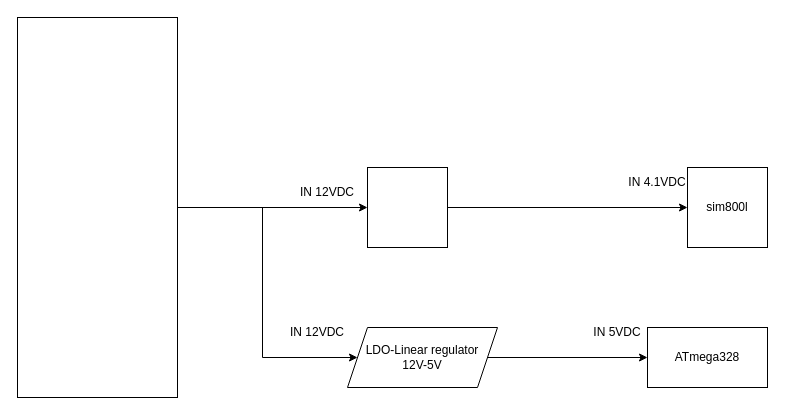
Image size: 785x415. Some labels were removed from this diagram. Each missing label, with the box of its shape:
Buck 12VDC-4.1VDC: (366, 166, 448, 248)
PSU 220VAC 12VDC: (16, 16, 178, 398)
